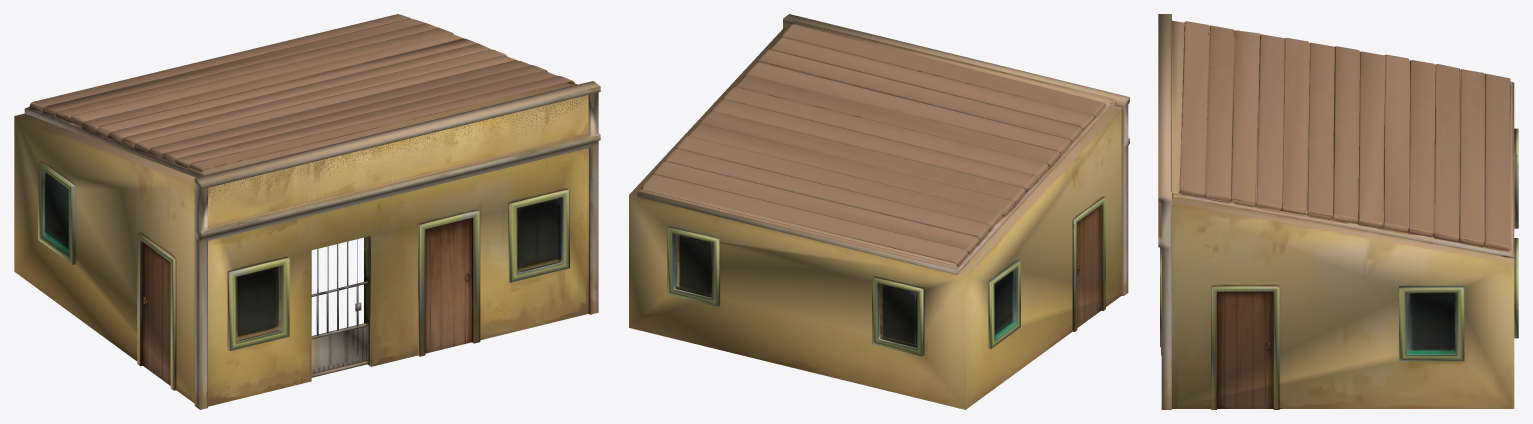
The model's file is casa_platibanda.glb.
3 views of the same model, side by side, from view 1: azimuth 30°, elevation 25°; view 2: azimuth 150°, elevation 25°; view 3: azimuth 270°, elevation 25° (orthographic). The views are drawn at different scales.
Parts seen in each view (by area): view 1: Casa com platibanda; view 2: Casa com platibanda; view 3: Casa com platibanda.
Boxes of the visible parts, bbox=[...] form: Casa com platibanda: bbox=[14, 14, 600, 409]; Casa com platibanda: bbox=[629, 14, 1129, 409]; Casa com platibanda: bbox=[1158, 14, 1518, 409].
Bounding box in the file's own units: 0.998 × 0.5449 × 0.8301.
Materials: 1 (1 with a texture image).
